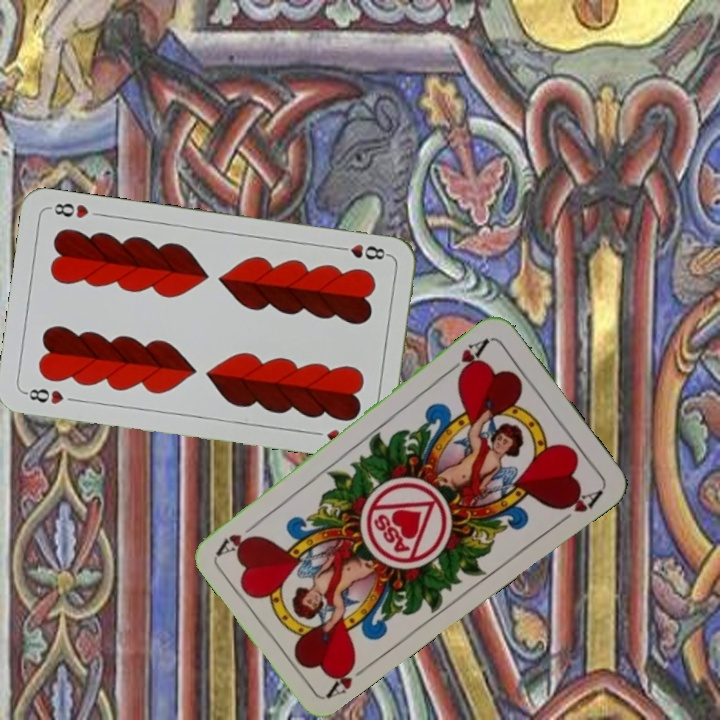H8: (333, 240, 392, 263), (20, 384, 66, 407)
HA: (322, 655, 373, 701), (444, 333, 493, 380)
